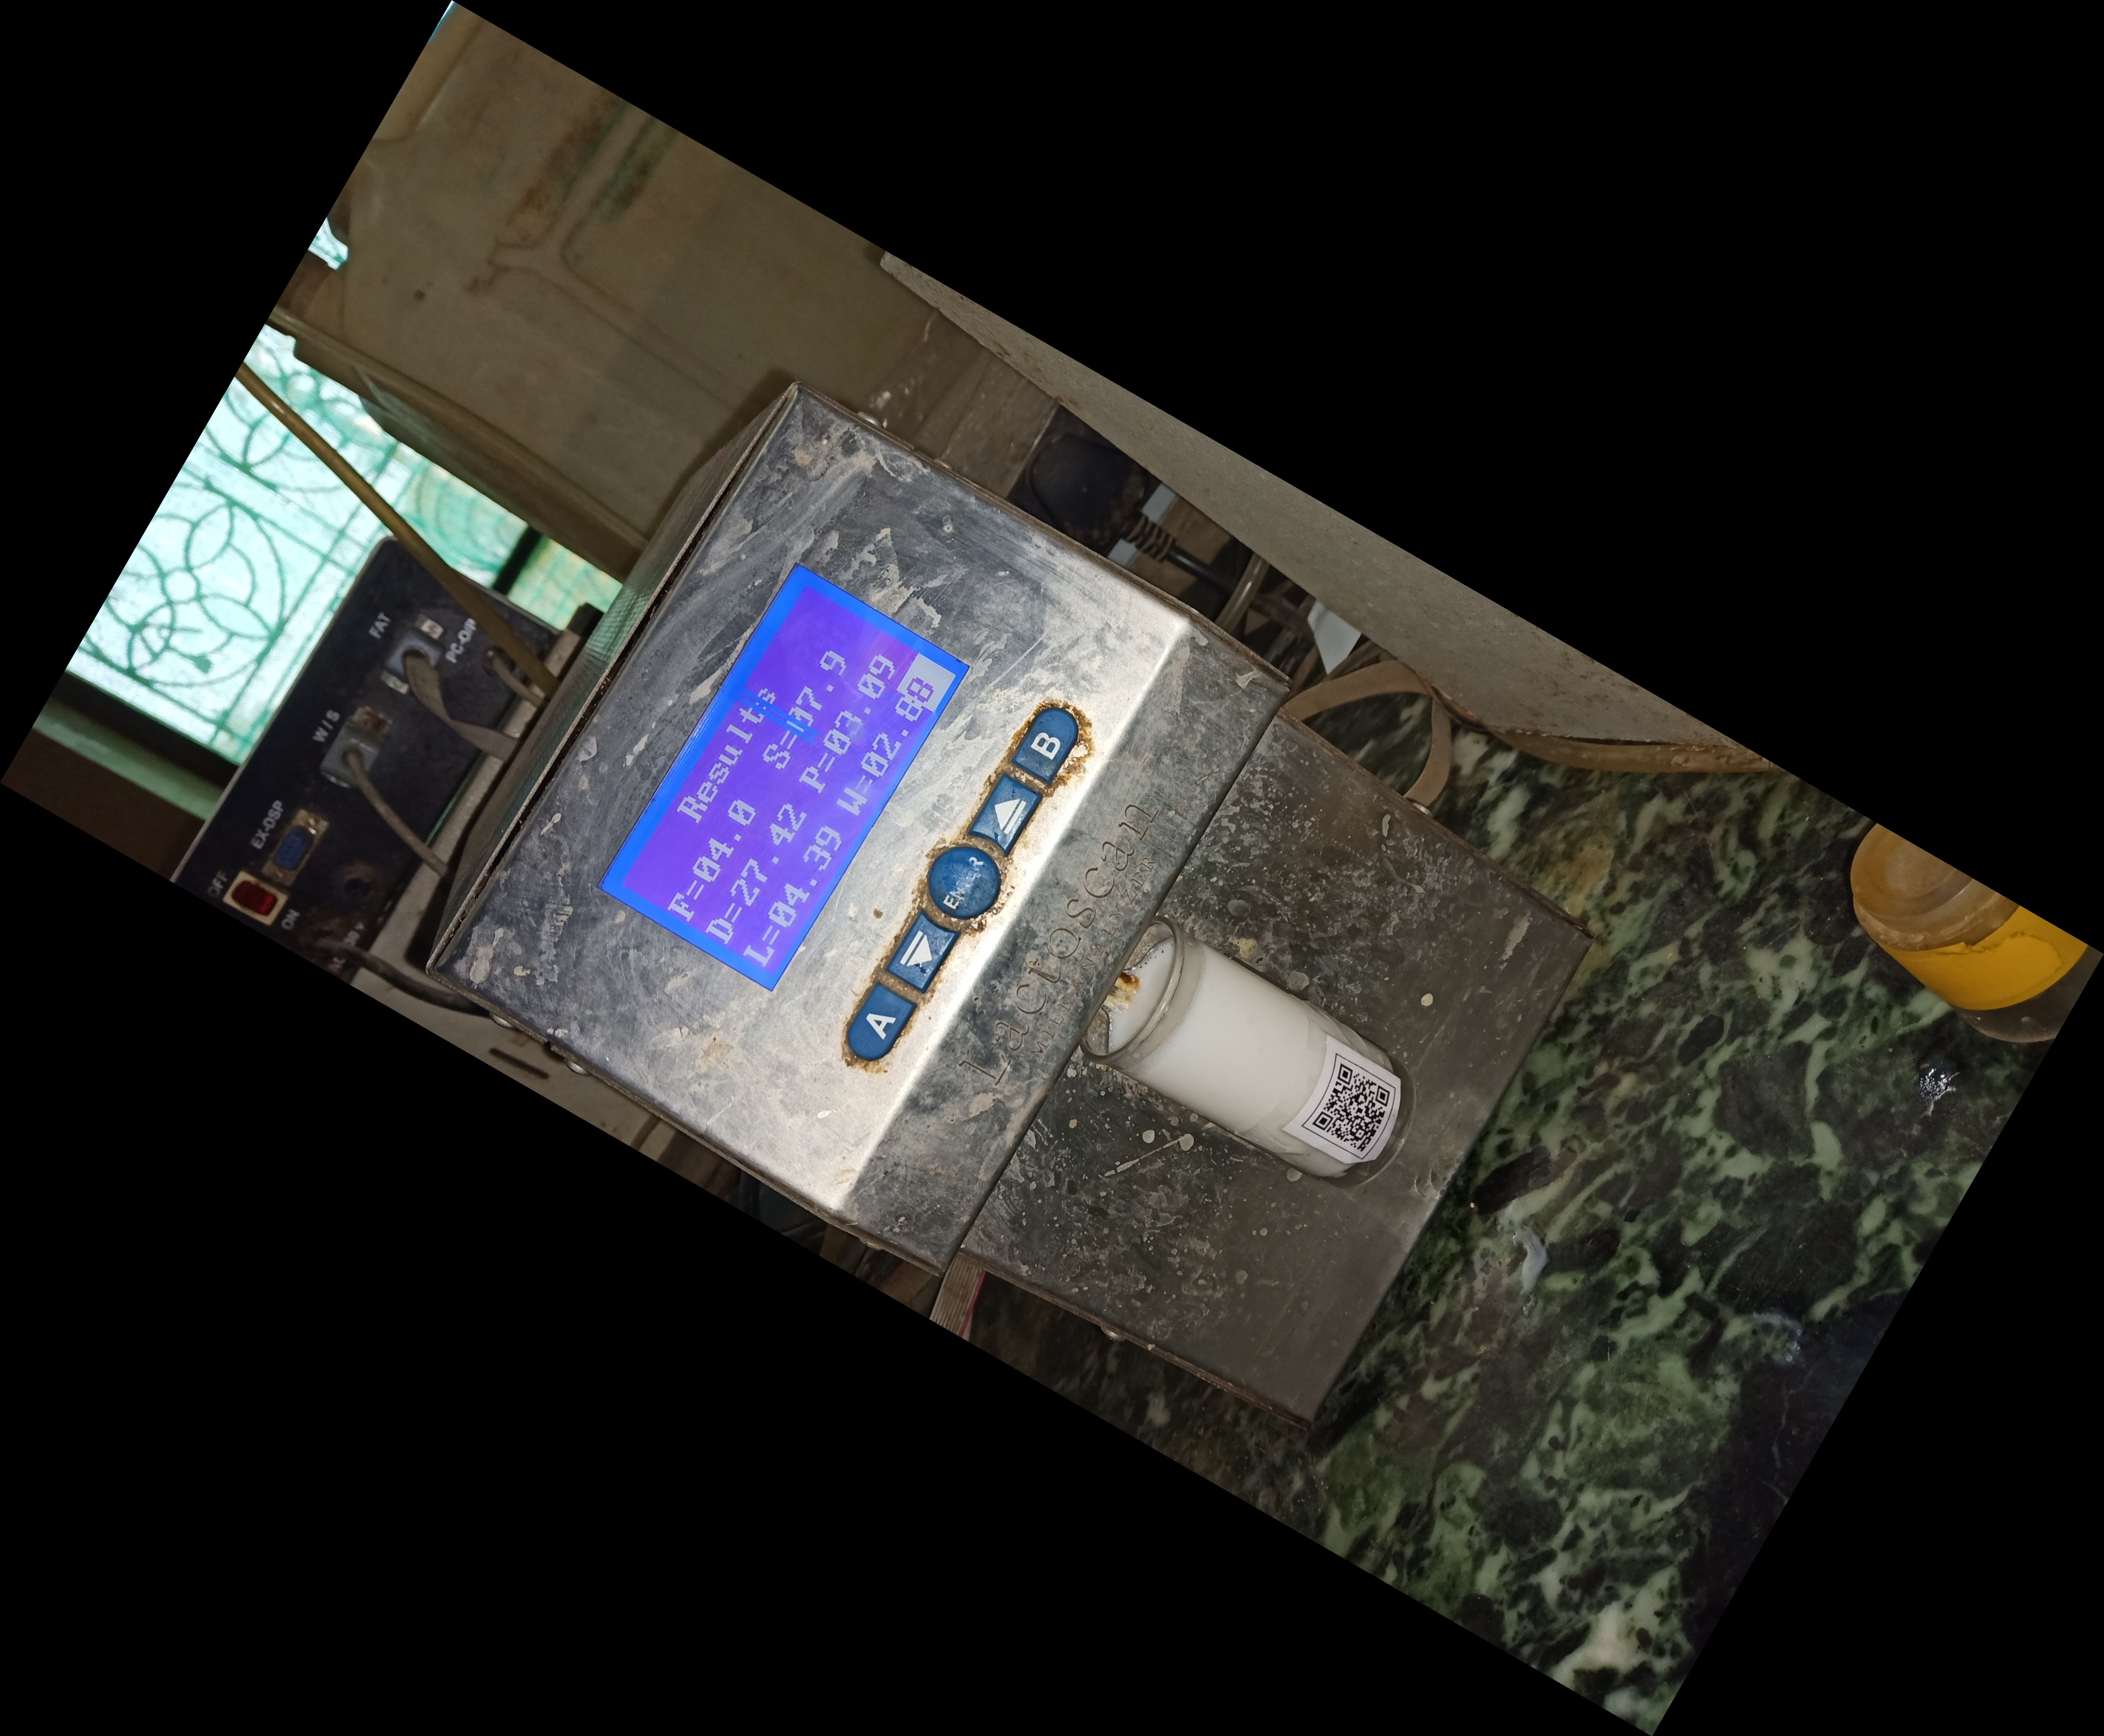lcd: (598, 541, 991, 1002)
qr: (1276, 1023, 1412, 1181)
